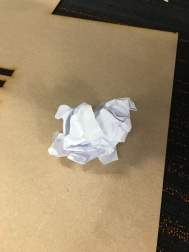paper_white: (48, 89, 140, 172)
